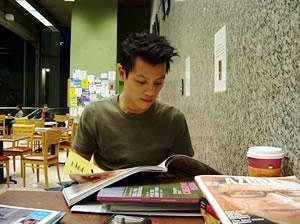person: (70, 34, 194, 182)
